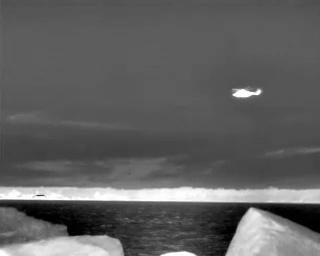HELICOPTER: (227, 81, 268, 104)
